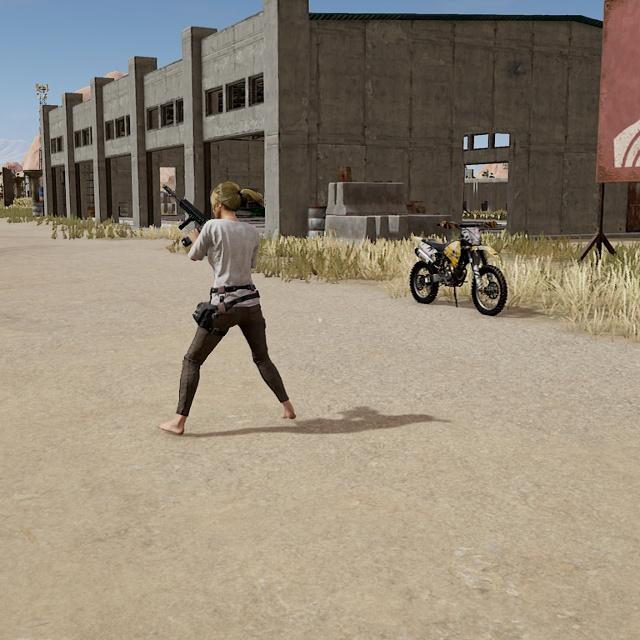head: (208, 179, 245, 224)
people: (160, 176, 300, 438)
